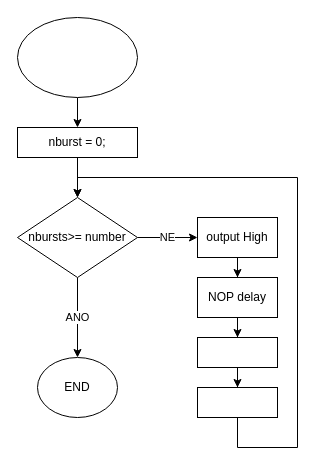
This 323x473 diagram has some shape labels left out. Each missing label, with the centre of its shape:
"nbursts ++" goes at (237,402).
"output Low" goes at (237,352).
"void_burst_c(number)" goes at (77,57).
